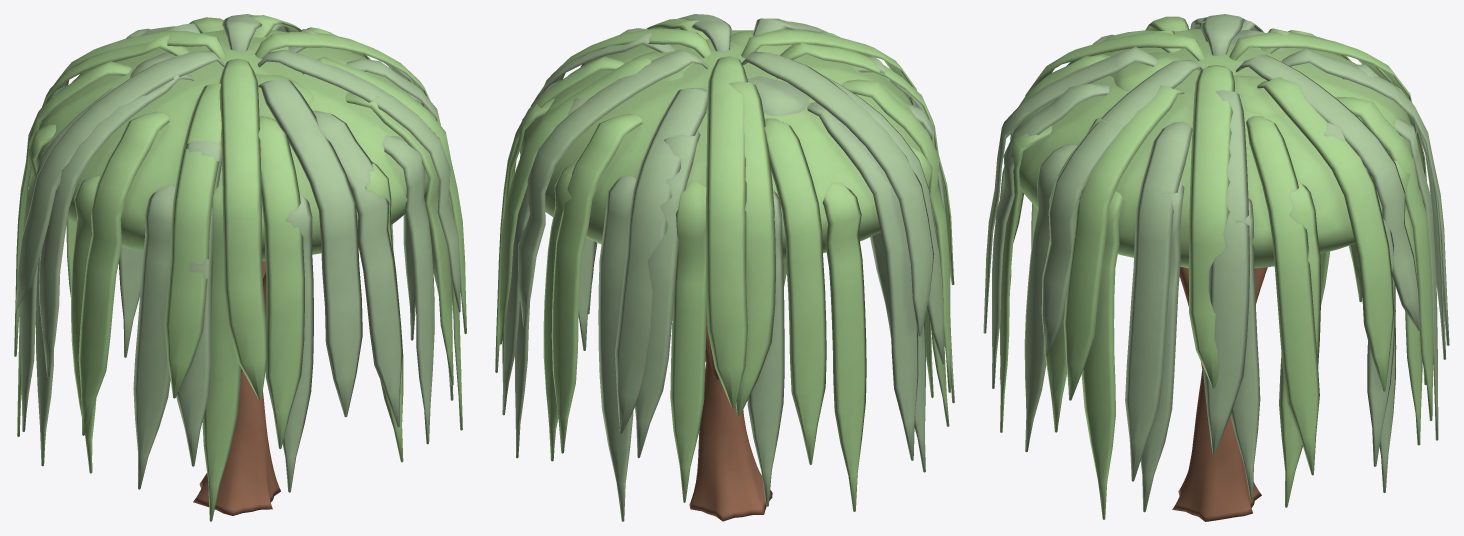
File: willow-tree.glb
3 renders of one model, left to right at view 1: azimuth 30°, elevation 25°; view 2: azimuth 150°, elevation 25°; view 3: azimuth 270°, elevation 25°, orthographic.
Parts seen in each view (by area): view 1: willow-tree_body; view 2: willow-tree_body; view 3: willow-tree_body.
Boxes of the visible parts, left/top/right/bottom form: willow-tree_body: left=14, top=14, right=466, bottom=521; willow-tree_body: left=495, top=14, right=954, bottom=521; willow-tree_body: left=983, top=14, right=1449, bottom=521.
Bounding box in the file's own units: 6.44 × 6.8 × 6.27.
Materials: 1 (1 with a texture image).
